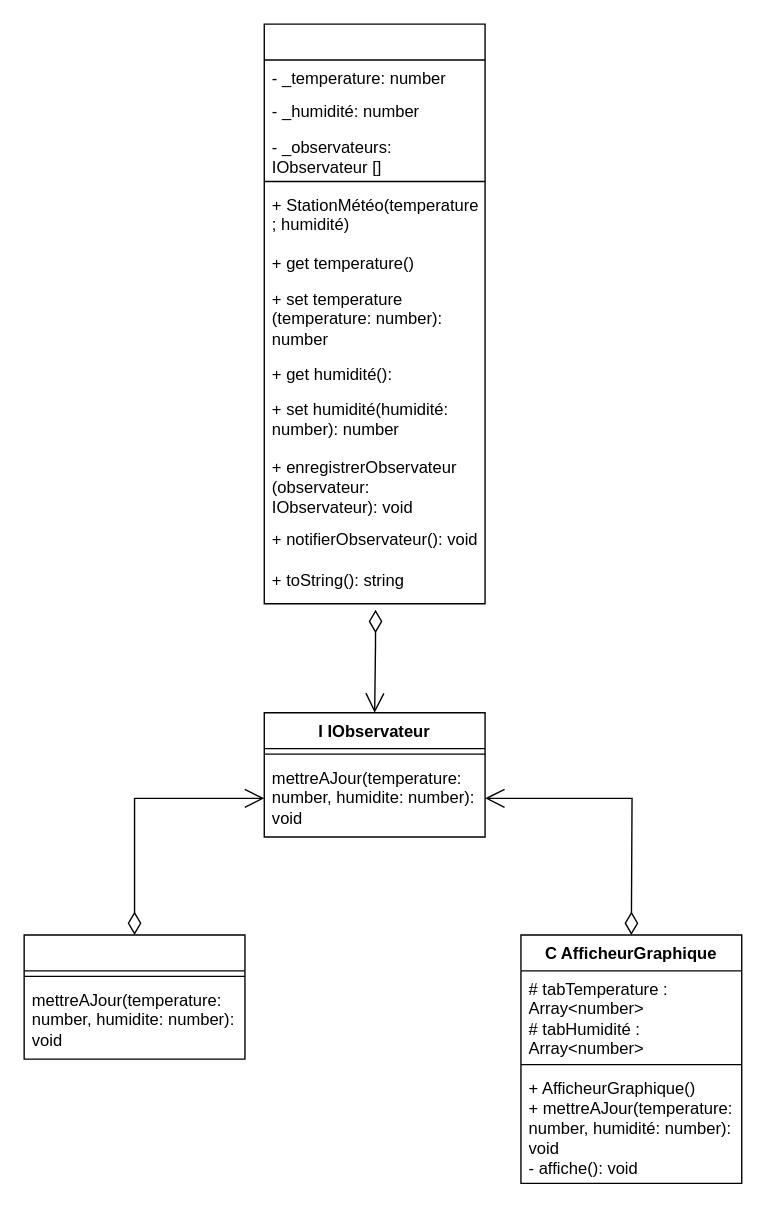
The diagram is 766 pixels wide and 1212 high, and some of its shapes have lost their labels. Here are the shapes that lost their labels. From the top down, the box of each, then its label:
(263, 23, 485, 604): C StationMétéo
(23, 934, 245, 1059): C AfficheurTexte
